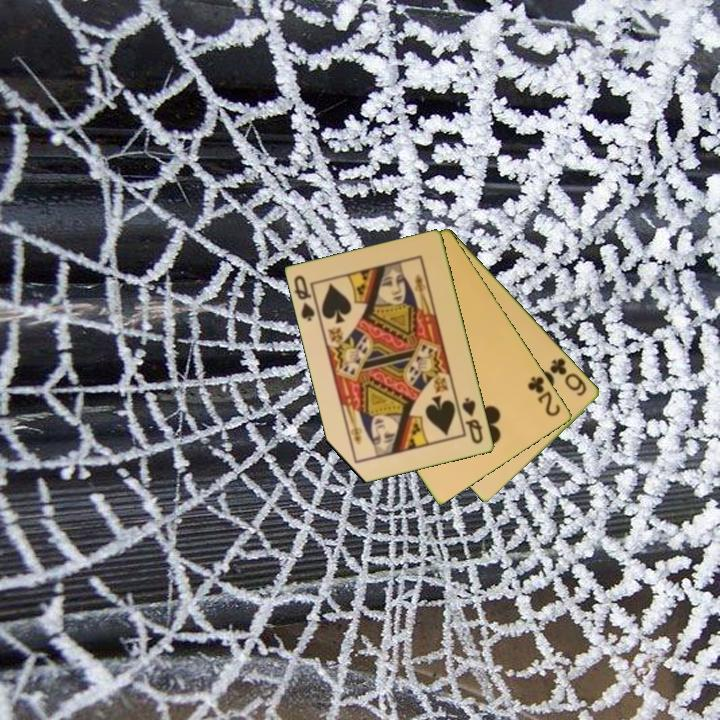2c: (524, 373, 564, 420)
6c: (546, 354, 590, 399)
Qs: (459, 394, 486, 447), (291, 272, 318, 325)
